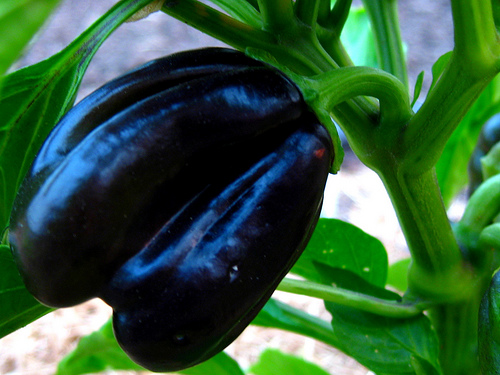capsicum: (13, 45, 411, 374)
